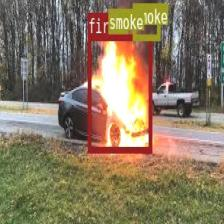fire: (88, 33, 152, 153)
smoke: (132, 2, 160, 39), (108, 7, 127, 32)
